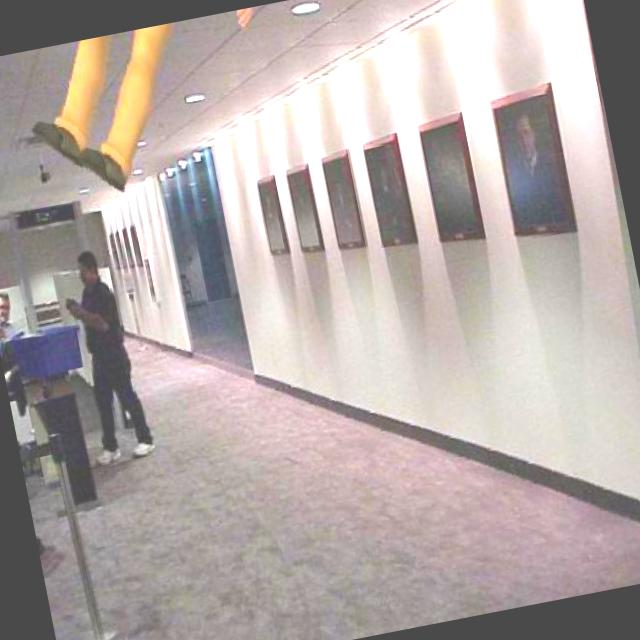Person: (12, 5, 292, 208)
